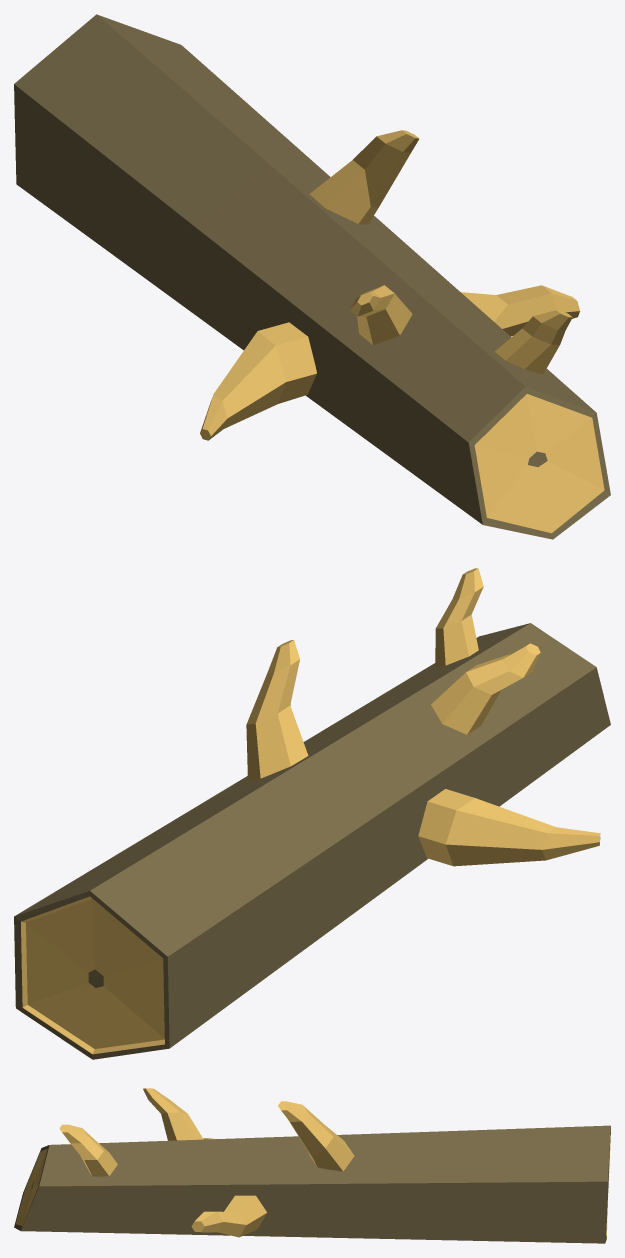
The model's file is Log.fbx.
3 renders of one model, top to bottom at view 1: azimuth 30°, elevation 25°; view 2: azimuth 150°, elevation 25°; view 3: azimuth 270°, elevation 25°, orthographic. The views are drawn at different scales.
Parts seen in each view (by area): view 1: Cylinder.002; view 2: Cylinder.002; view 3: Cylinder.002.
Part boxes in pixels (bbox=[...]): Cylinder.002: bbox=[14, 14, 610, 539]; Cylinder.002: bbox=[14, 568, 610, 1059]; Cylinder.002: bbox=[14, 1088, 610, 1243].
Bounding box in the file's own units: 257 × 162 × 575.
